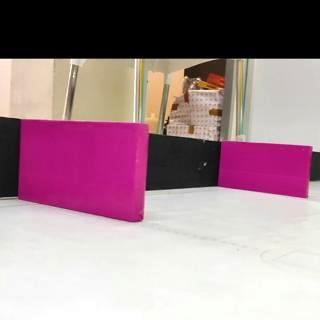xparking: (24, 124, 143, 210), (222, 146, 310, 196)
